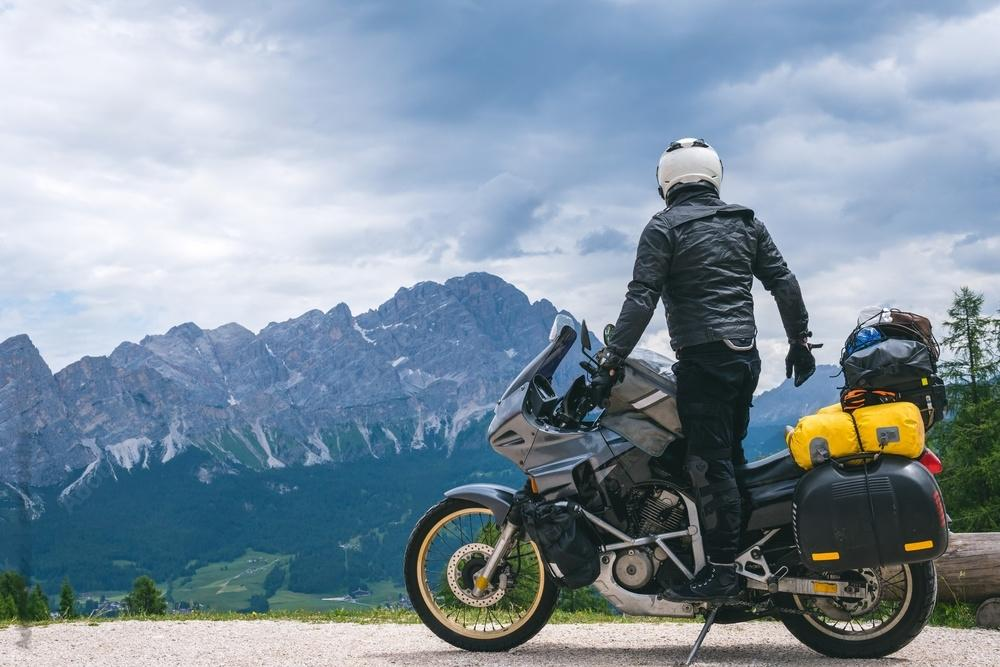helmet: (655, 136, 724, 208)
